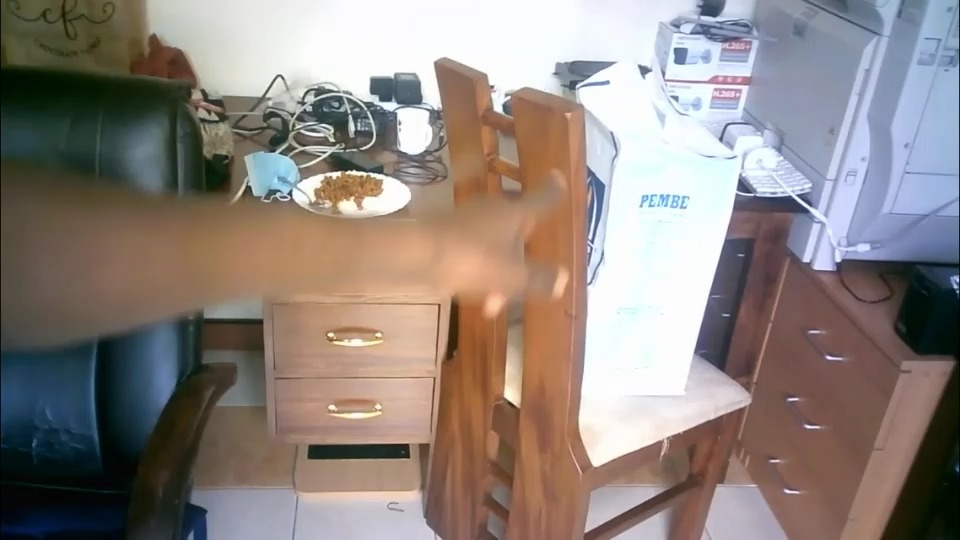wheat_flour_blue_label: (588, 65, 713, 417)
